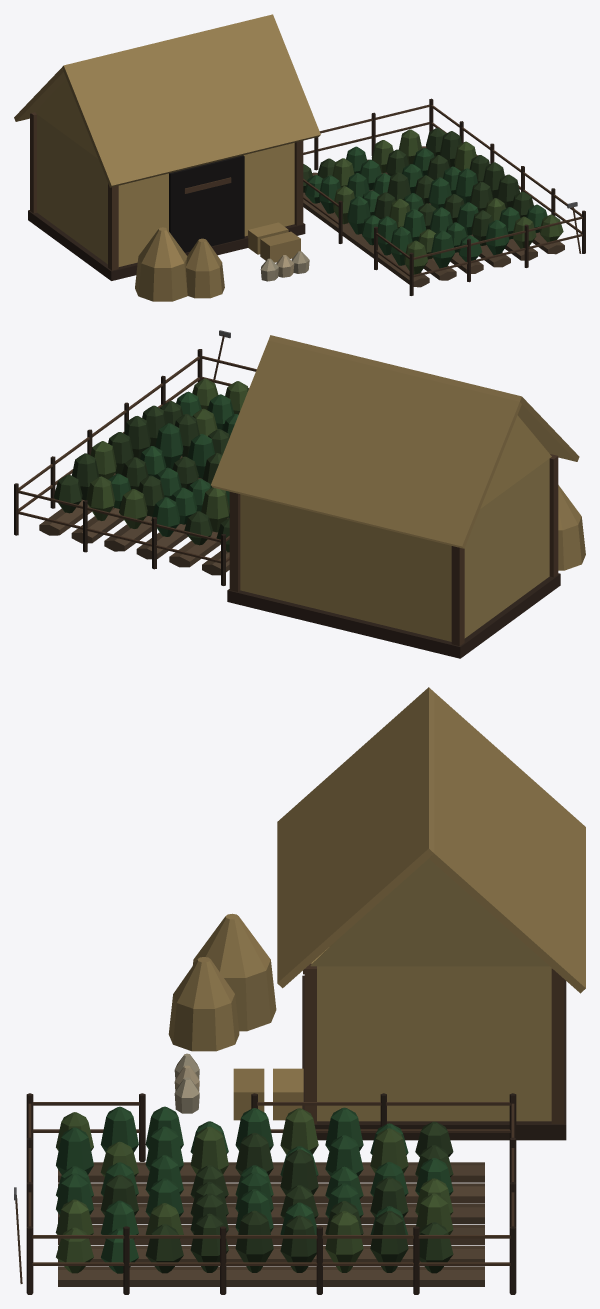
File: walk_tidebound_plantation.glb
The picture shows the model from 3 angles, top to bottom: view 1: azimuth 30°, elevation 25°; view 2: azimuth 150°, elevation 25°; view 3: azimuth 270°, elevation 25°; orthographic projection. The views are drawn at different scales.
Parts seen in each view (by area): view 1: walk_tidebound_plantation, walk_tidebound_plantation_roof; view 2: walk_tidebound_plantation, walk_tidebound_plantation_roof; view 3: walk_tidebound_plantation, walk_tidebound_plantation_roof.
Boxes of the visible parts, bbox=[...] form: walk_tidebound_plantation: bbox=[28, 79, 585, 301]; walk_tidebound_plantation_roof: bbox=[14, 14, 320, 187]; walk_tidebound_plantation: bbox=[14, 330, 585, 658]; walk_tidebound_plantation_roof: bbox=[211, 335, 579, 548]; walk_tidebound_plantation: bbox=[14, 858, 566, 1294]; walk_tidebound_plantation_roof: bbox=[277, 687, 585, 993].
Size of what is drawn, in the model's own units: 12.85 by 6.04 by 10.18.
2 materials, 2 textured.
